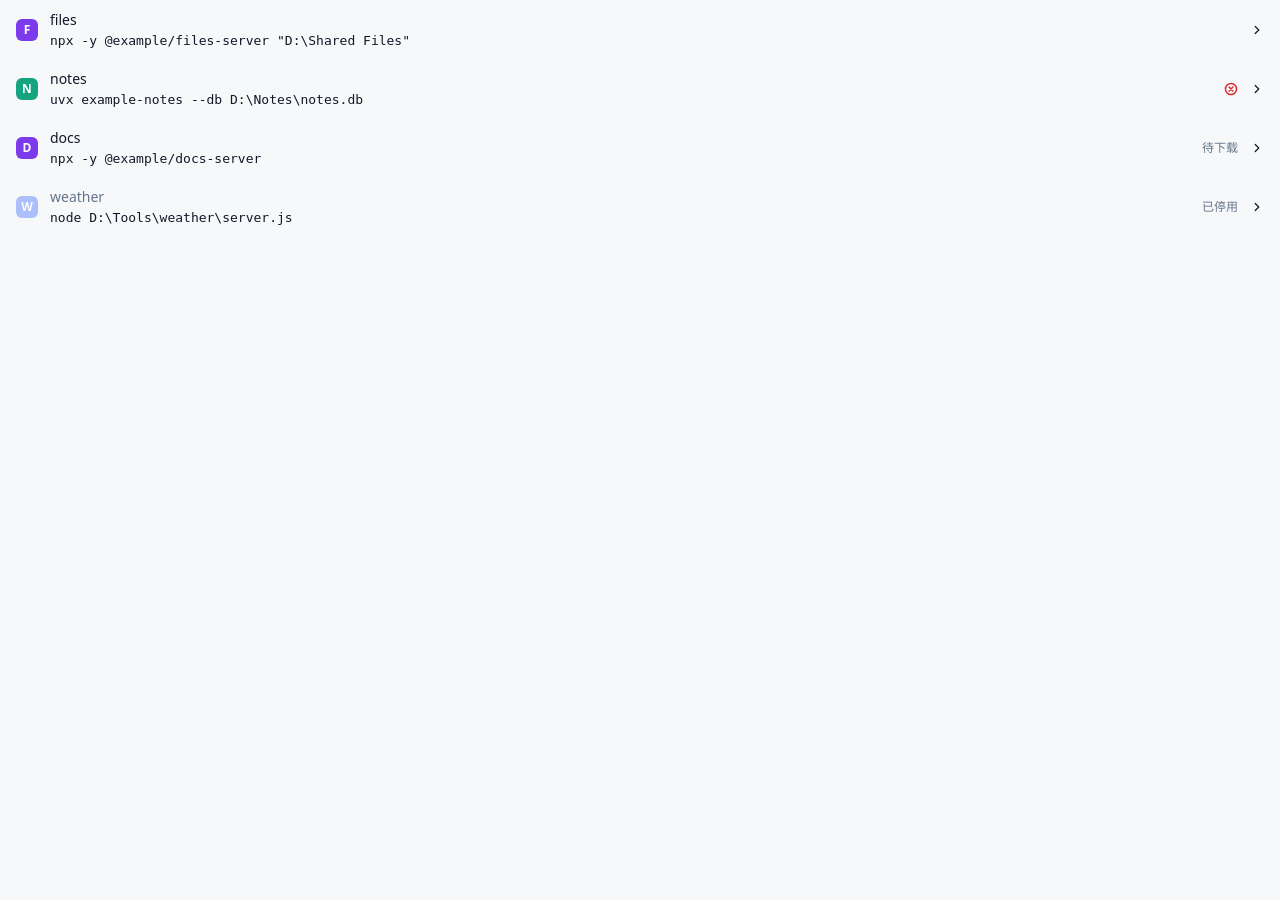
Test: MCP 服务 › 删除 asks, then the list
Click the button "F files npx -y @example/files-server \"D:\\Shared Files\"" at {"x": 230, "y": 40}, box [0, 0, 1279, 59]
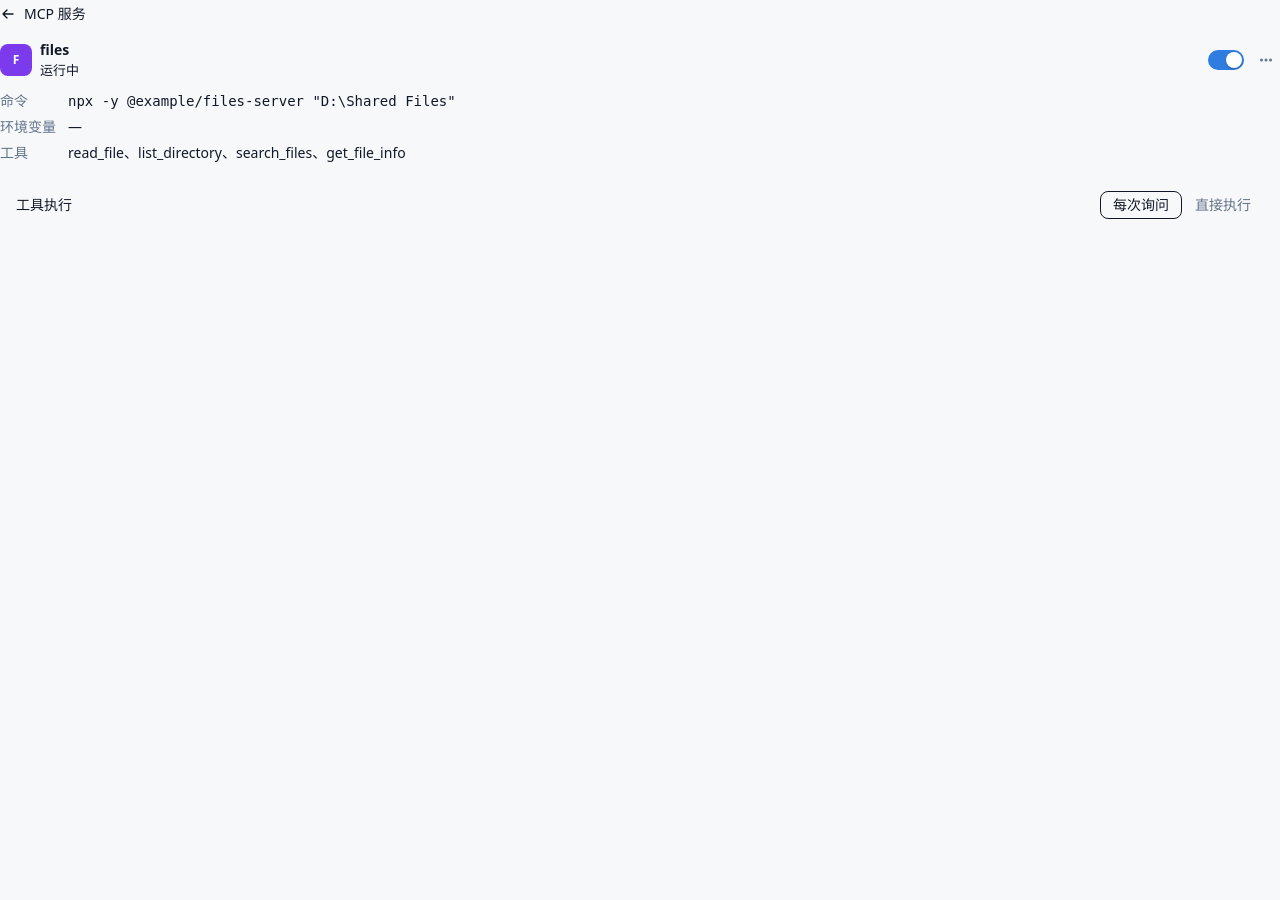
Click the button named "更多操作" at {"x": 1266, "y": 60}, box [1252, 46, 1279, 74]
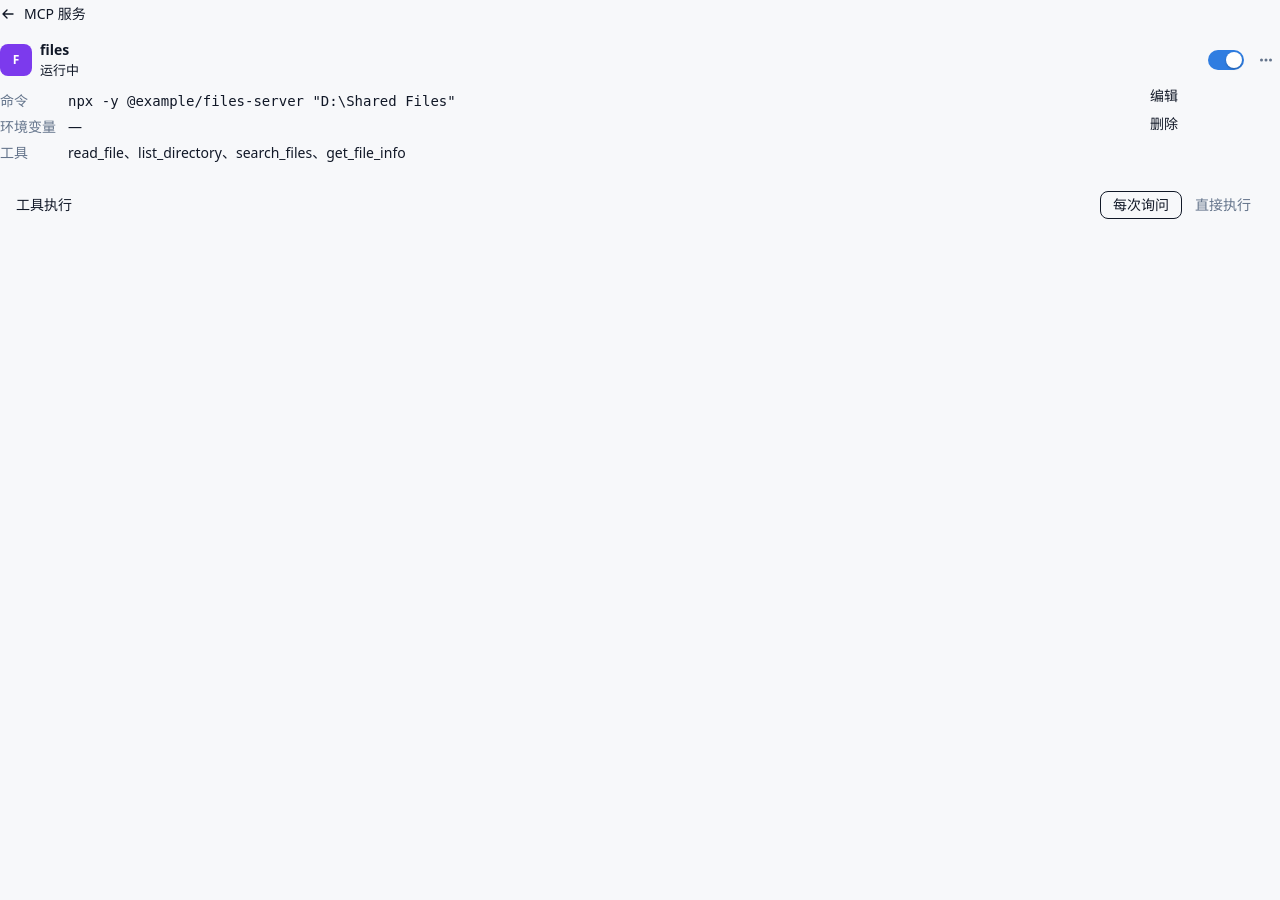
Click the menu item "删除" at {"x": 1206, "y": 124}, box [1140, 110, 1272, 138]
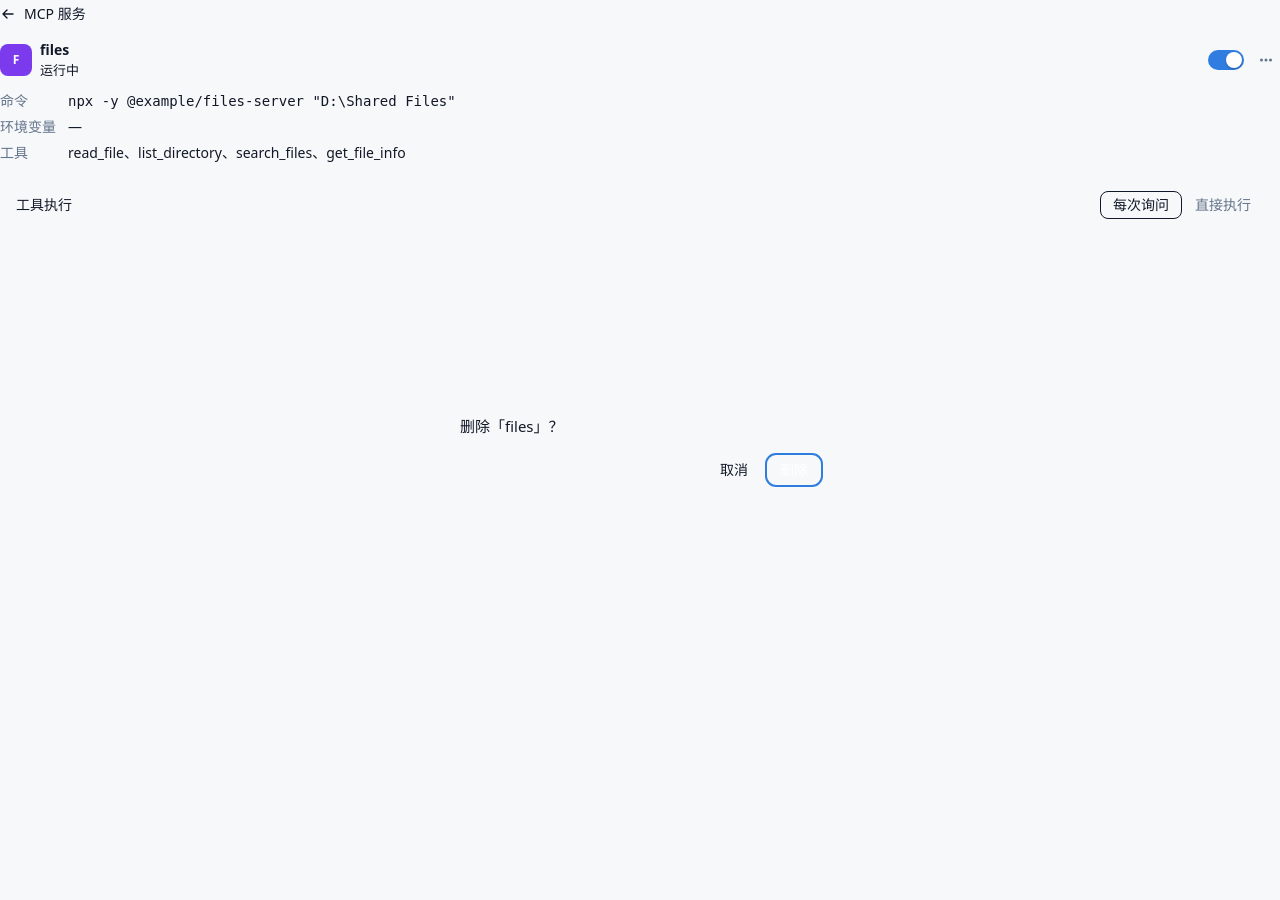
Click the button "删除" at {"x": 794, "y": 470}, box [768, 456, 820, 484]
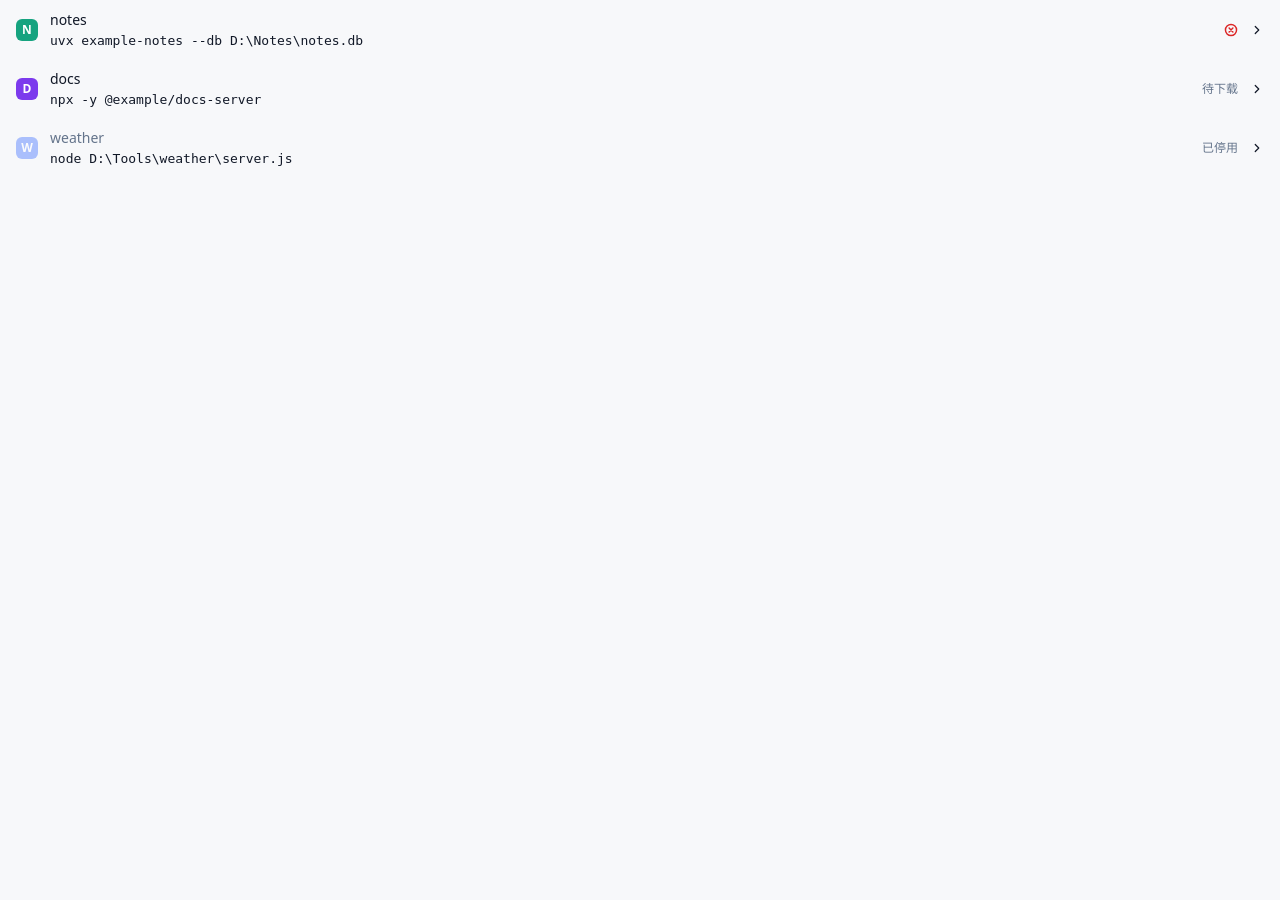
Now the text "files" is gone
